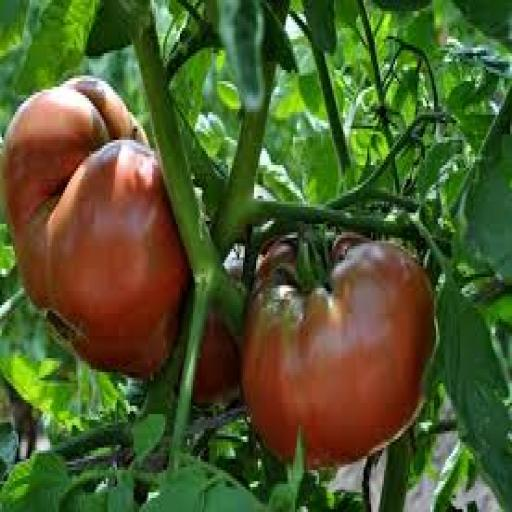tomato: (2, 79, 189, 377), (242, 238, 434, 467), (193, 308, 241, 405), (193, 311, 239, 405)
